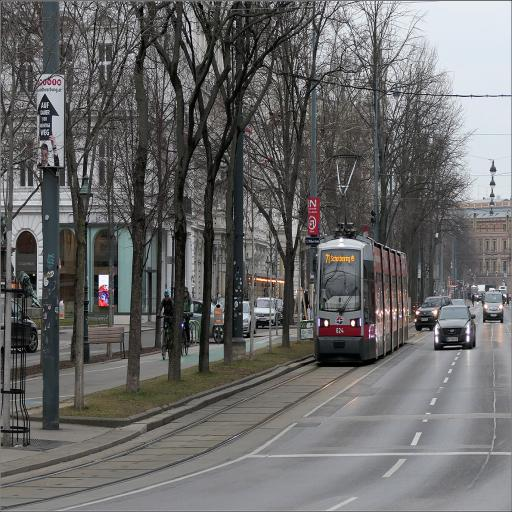ULF: (314, 236, 410, 363)
